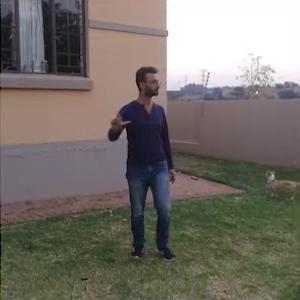land_hand: (107, 105, 136, 137)
